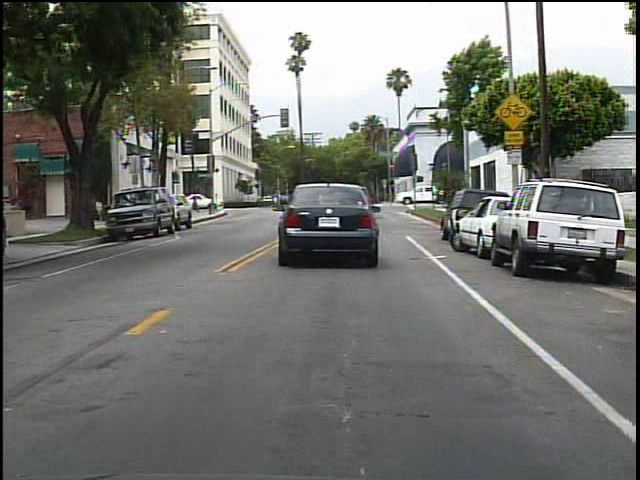person: (190, 193, 201, 220)
